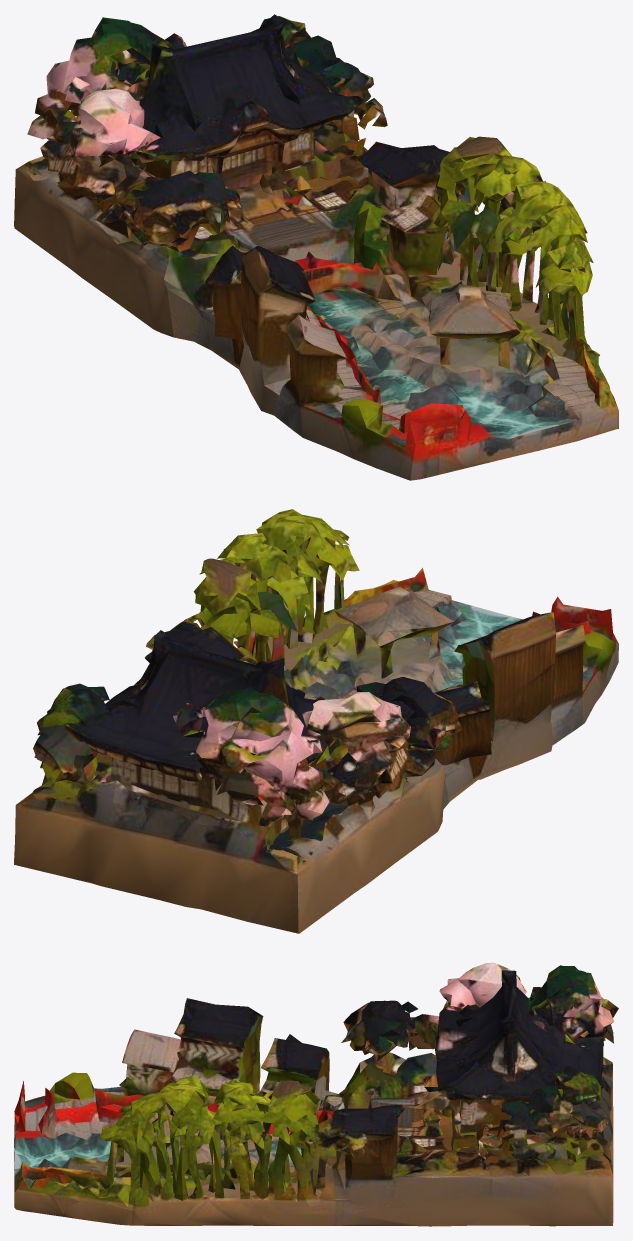
Rendered from shuzenji.glb.
3 views of the same model, one above another, from view 1: azimuth 30°, elevation 25°; view 2: azimuth 150°, elevation 25°; view 3: azimuth 270°, elevation 25° (orthographic). The views are drawn at different scales.
Parts seen in each view (by area): view 1: logan-textured.obj; view 2: logan-textured.obj; view 3: logan-textured.obj.
Part boxes in pixels (x1,y1,x2,y2): logan-textured.obj: (14, 14, 618, 480); logan-textured.obj: (14, 509, 618, 933); logan-textured.obj: (14, 962, 618, 1226).
Bounding box in the file's own units: 0.5365 × 0.3164 × 1.
Materials: 1 (1 with a texture image).
